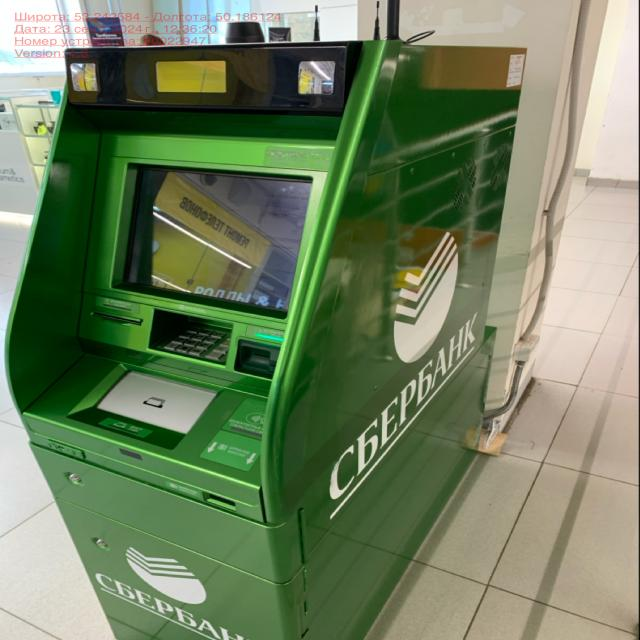bank: (7, 42, 524, 640)
